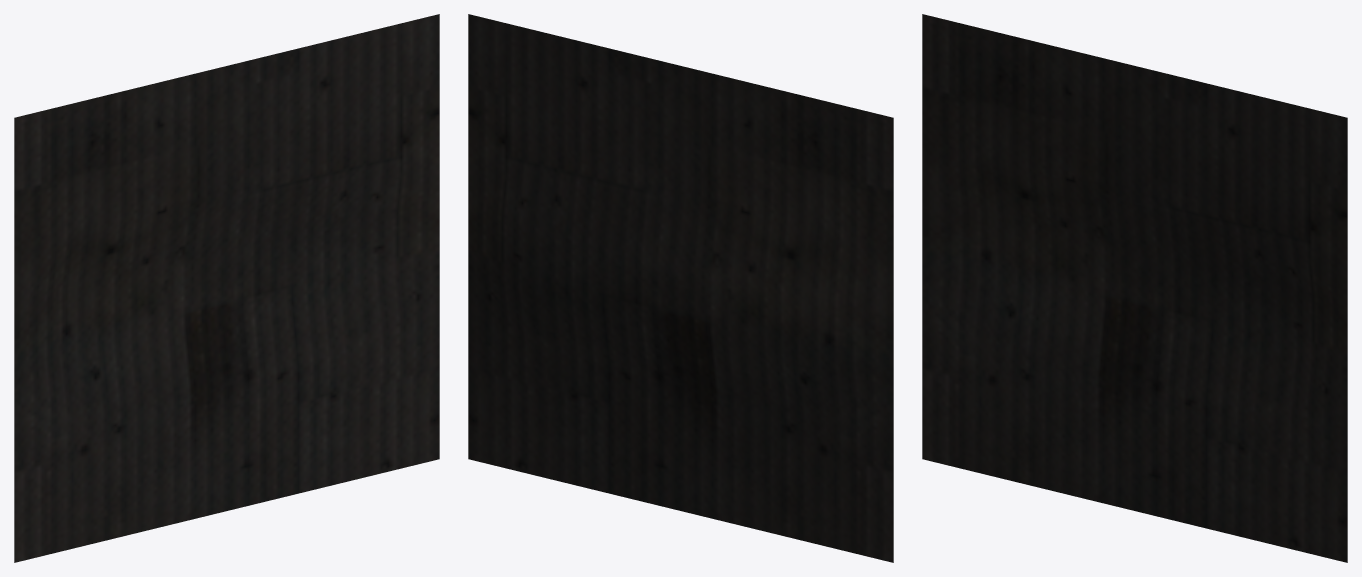
Rendered from wall_5.fbx.
3 renders of one model, left to right at view 1: azimuth 30°, elevation 25°; view 2: azimuth 150°, elevation 25°; view 3: azimuth 330°, elevation 25°, orthographic.
Visible parts, largest first — view 1: wall_5; view 2: wall_5; view 3: wall_5.
Part boxes in pixels (left/top/right/bottom): wall_5: left=14, top=14, right=439, bottom=562; wall_5: left=468, top=14, right=893, bottom=562; wall_5: left=922, top=14, right=1347, bottom=562.
Size of the model in its own units: 200 by 200 by 5.
